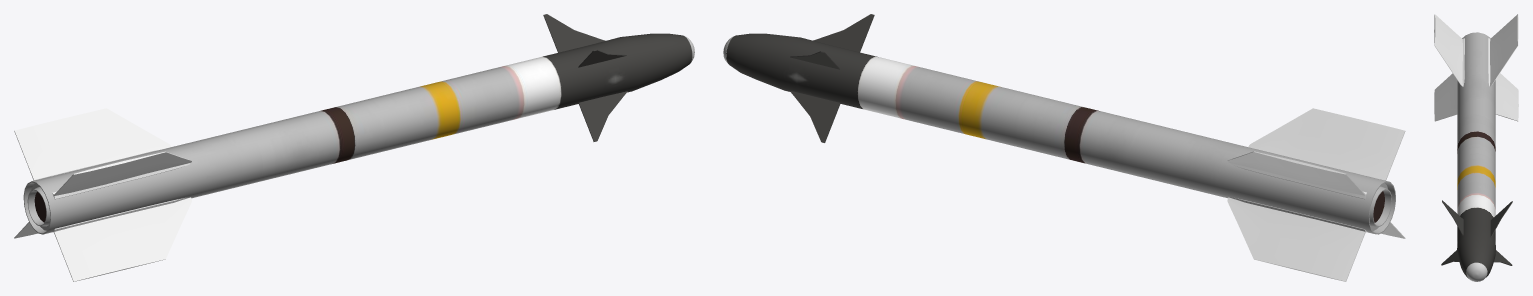
The model's file is srm_3.glb.
The picture shows the model from 3 angles, left to right: view 1: azimuth 30°, elevation 25°; view 2: azimuth 150°, elevation 25°; view 3: azimuth 270°, elevation 25°; orthographic projection. The views are drawn at different scales.
Visible parts, largest first — view 1: defaultMaterial; view 2: defaultMaterial; view 3: defaultMaterial.
Boxes of the visible parts, bbox=[...] form: defaultMaterial: bbox=[14, 14, 694, 281]; defaultMaterial: bbox=[723, 14, 1405, 281]; defaultMaterial: bbox=[1434, 14, 1518, 281].
Size of the model in its own units: 1 by 0.1593 by 0.1593.
Materials: 1 (1 with a texture image).
